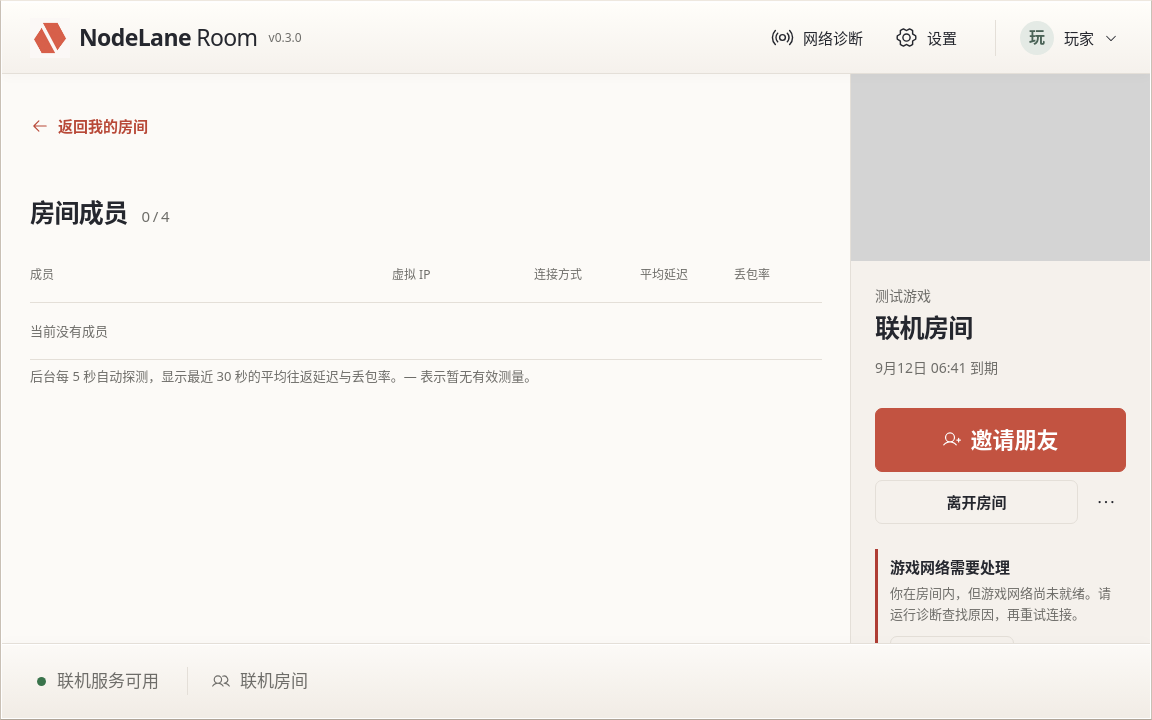
renewed invitation uses the actual standalone invitation response
The width and height of the screenshot is (1152, 720).
Click the button "邀请朋友" at (1000, 440), box [875,408,1126,472]
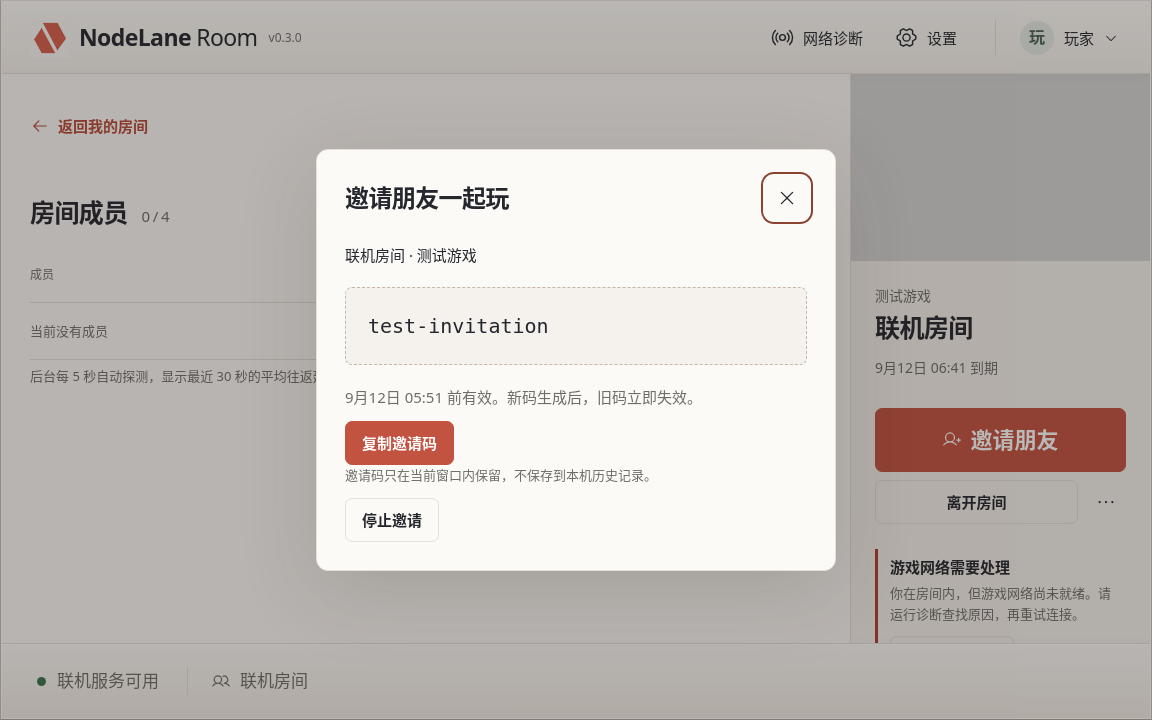
Check: the dialog is shown, box [316,149,836,571]
Check: the text "test-invitation" is shown, box [345,287,807,365]
Check: the button "复制邀请码" is shown, box [345,421,454,465]
